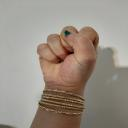Fist: (36, 24, 100, 89)
